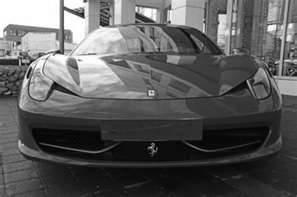car: (19, 24, 286, 171)
